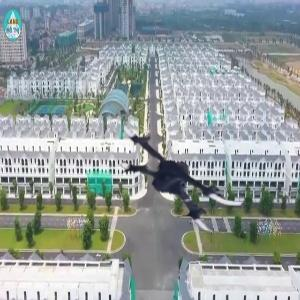drone: (114, 99, 256, 241)
